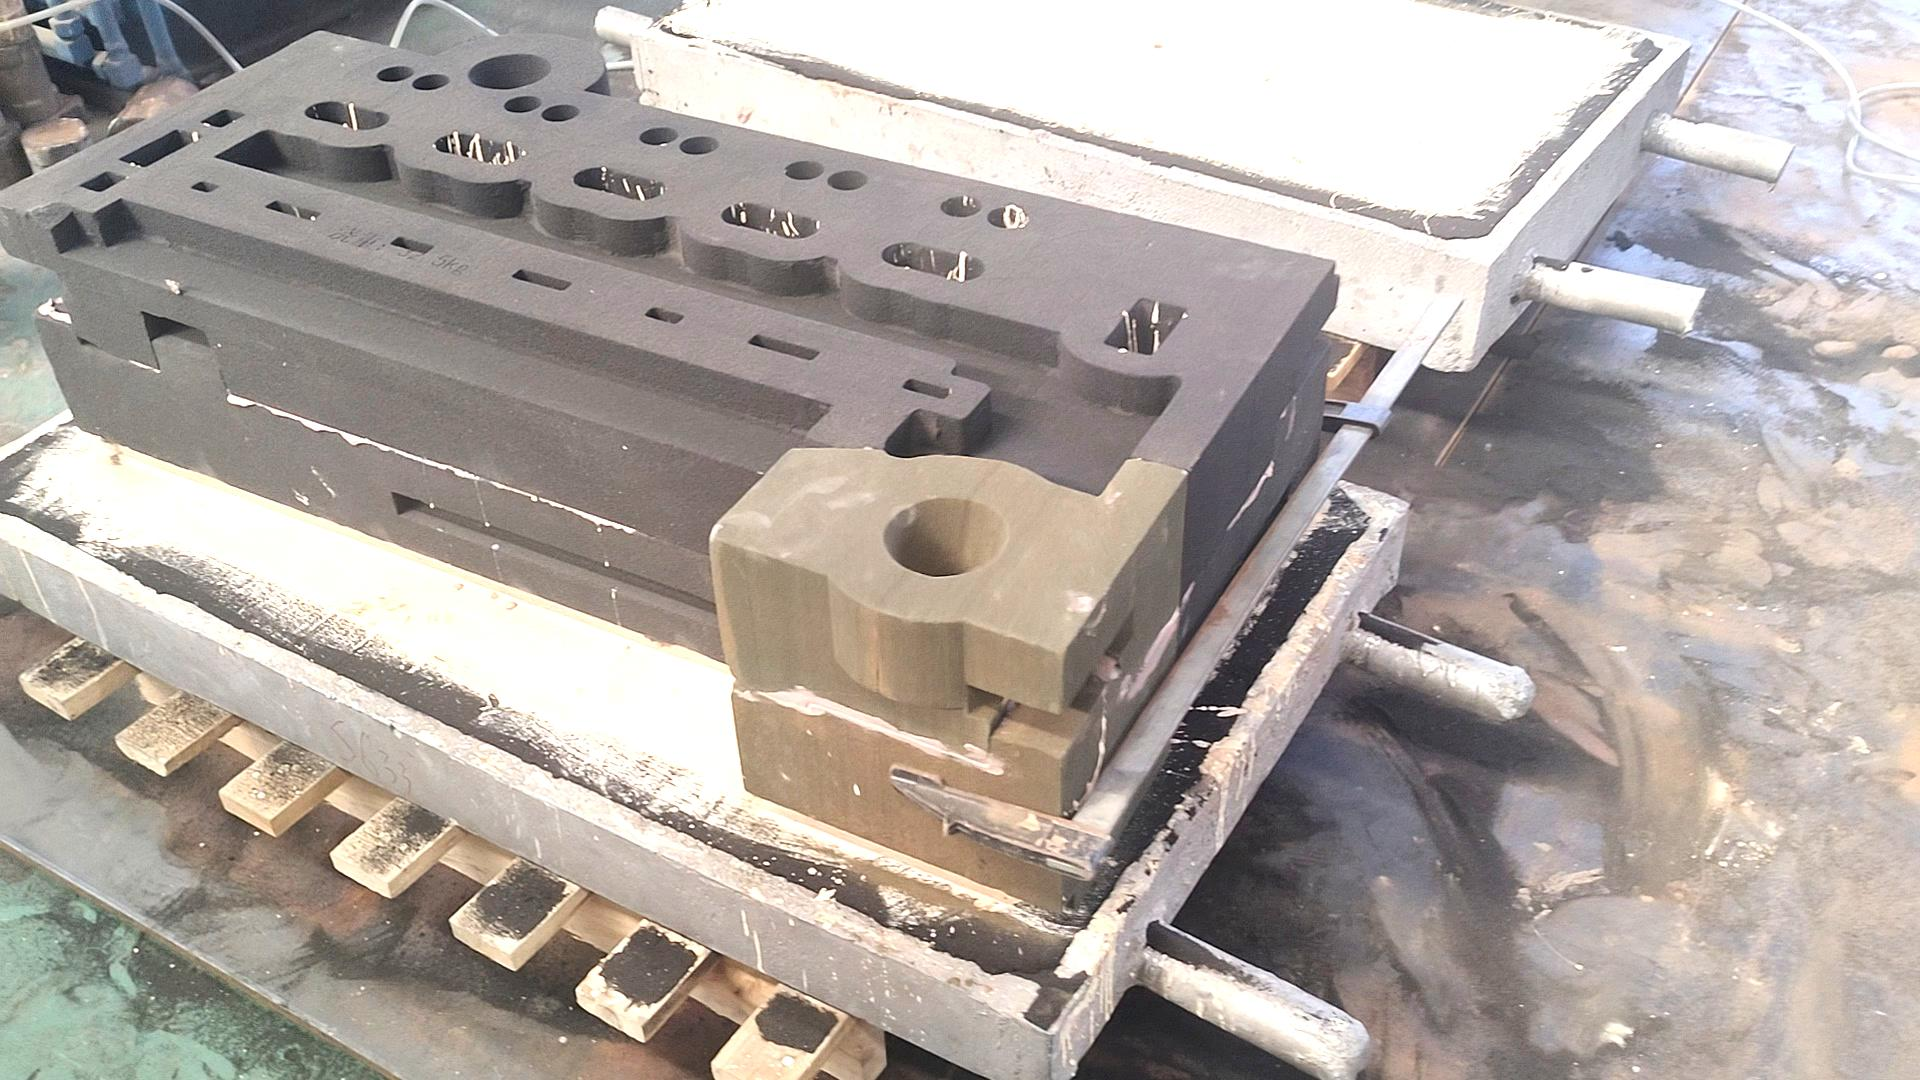pouring hole: (884, 496, 1009, 578), (467, 53, 551, 90)
